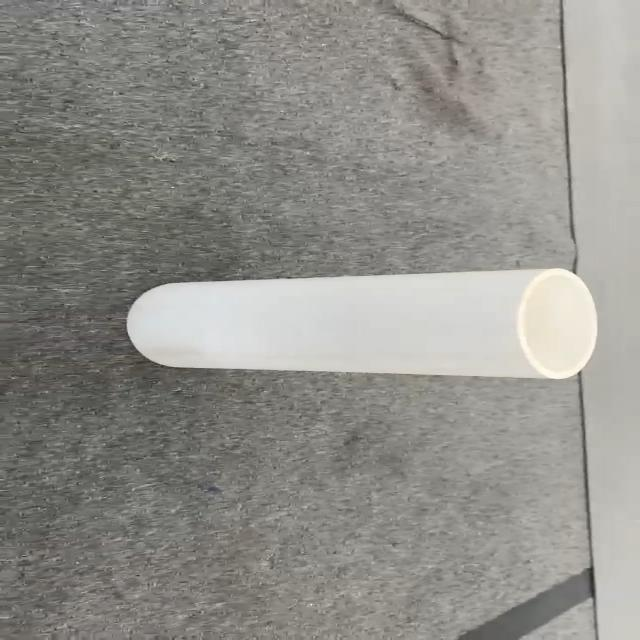coral: (124, 266, 598, 379)
